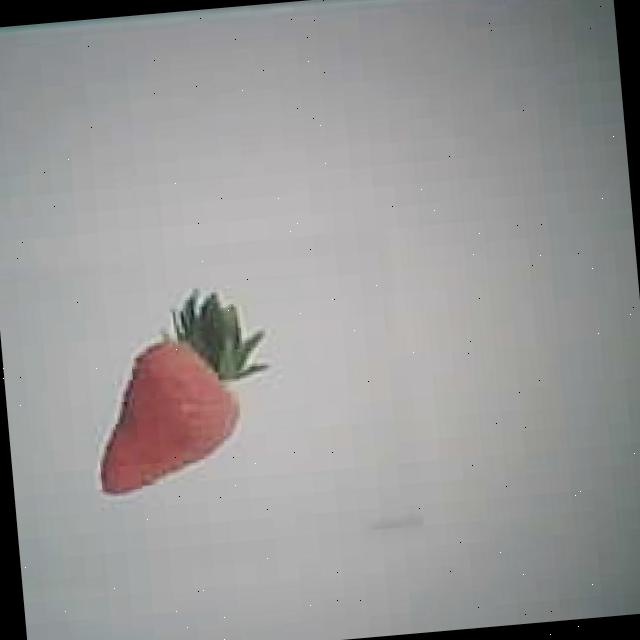strawberry: (83, 324, 248, 492)
